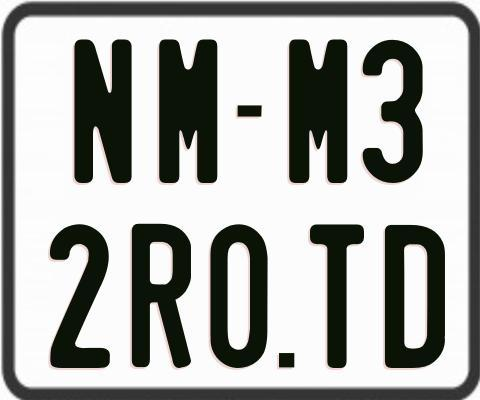0: (210, 222, 271, 366)
2: (47, 221, 109, 370)
3: (362, 39, 423, 187)
D: (384, 222, 450, 370)
M: (289, 40, 352, 186), (156, 38, 214, 185)
N: (71, 37, 133, 181)
R: (131, 223, 191, 369)
T: (308, 224, 365, 368)
